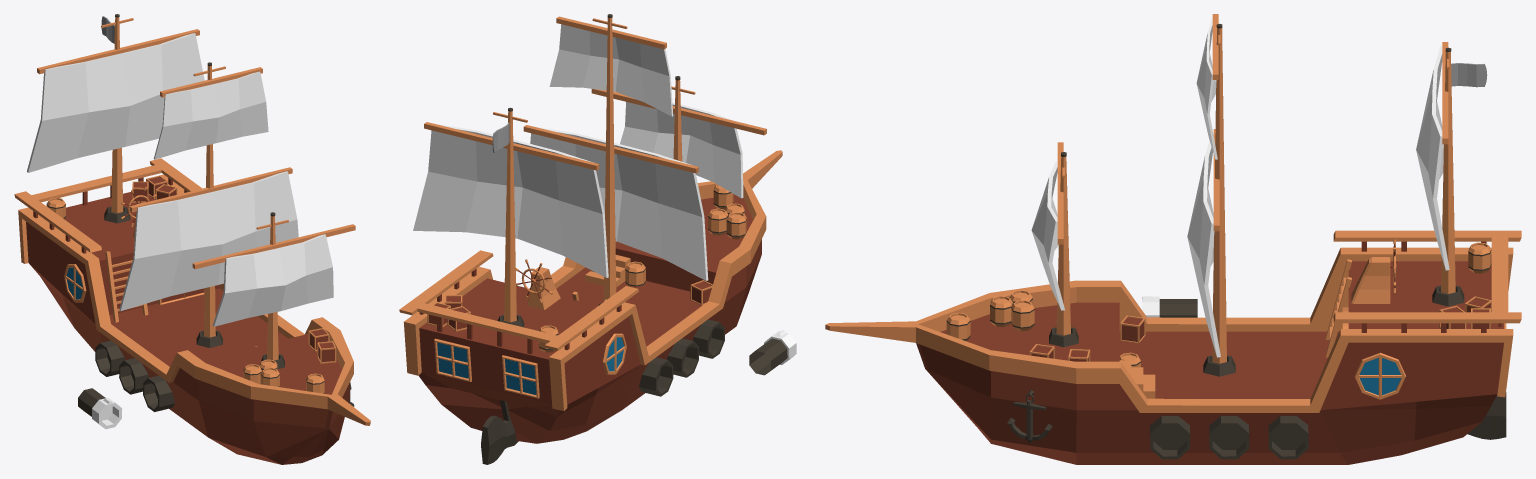
The model's file is Players_Ship_A02.fbx.
3 renders of one model, left to right at view 1: azimuth 30°, elevation 25°; view 2: azimuth 150°, elevation 25°; view 3: azimuth 270°, elevation 25°, orthographic. The views are drawn at different scales.
Parts seen in each view (by area): view 1: Base, Sail_01 (×2), Sail_Bot, Sail_Top, Mast_Pole (×3), Tip, Barrel; view 2: Base, Sail_01 (×2), Sail_Bot, Mast_Pole (×3), Sail_Top, Rudder, Barrel, Wheel; view 3: Base, Mast_Pole (×3), Sail_01 (×2), Sail_Bot, Sail_Top, Rudder, Flag, Barrel.
Part boxes in pixels (<box>): Base: <box>14,158,370,464</box>; Sail_01 (×2): <box>27,33,333,326</box>; Sail_Bot: <box>119,171,298,311</box>; Sail_Top: <box>153,71,268,159</box>; Mast_Pole (×3): <box>37,14,355,360</box>; Tip: <box>92,397,122,429</box>; Barrel: <box>78,388,105,416</box>; Base: <box>399,150,782,443</box>; Sail_01 (×2): <box>413,102,743,277</box>; Sail_Bot: <box>530,127,708,280</box>; Mast_Pole (×3): <box>424,14,766,322</box>; Sail_Top: <box>549,22,673,116</box>; Rudder: <box>481,400,518,464</box>; Barrel: <box>749,338,787,375</box>; Wheel: <box>516,259,552,302</box>; Base: <box>825,230,1521,464</box>; Mast_Pole (×3): <box>1056,14,1455,363</box>; Sail_01 (×2): <box>1031,46,1449,310</box>; Sail_Bot: <box>1187,133,1220,357</box>; Sail_Top: <box>1196,18,1217,159</box>; Rudder: <box>1467,392,1506,439</box>; Flag: <box>1451,63,1487,87</box>; Barrel: <box>1159,299,1197,317</box>.
Size of the model in its own units: 10.75 by 15.42 by 22.56.
